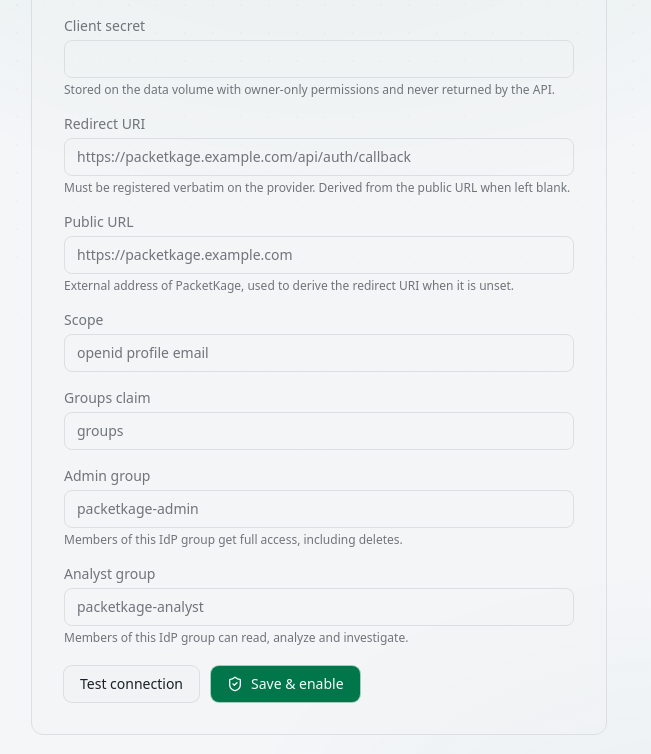
Test: SetupPage › reports a successful discovery pre-flight
The image size is (651, 754).
(page scrolled)
Click the button "Test connection".
click(132, 684)  # box [64,666,199,702]
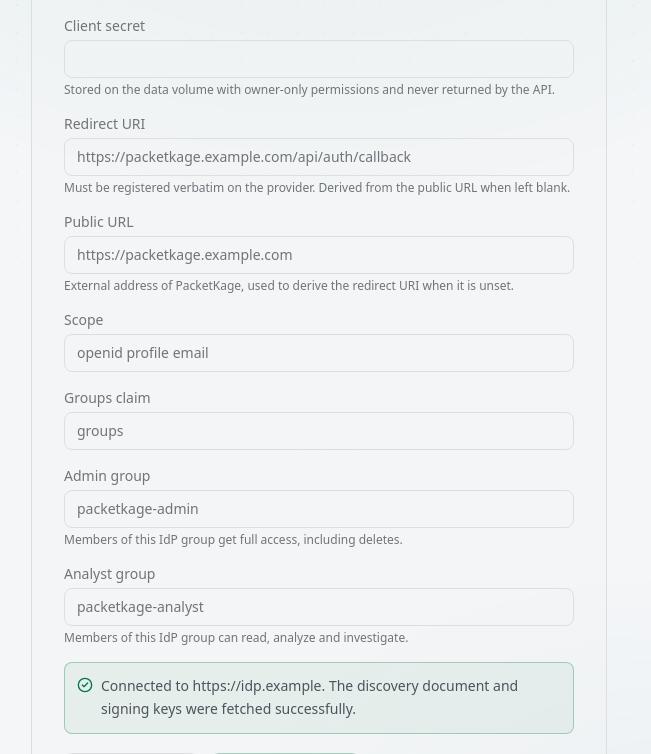
expect the text "Connected to" is shown: met, box [101,676,518,718]
